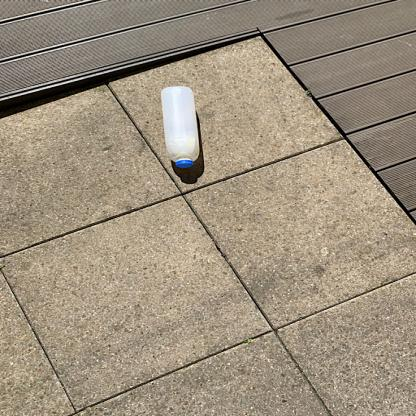trash: (156, 80, 210, 168)
